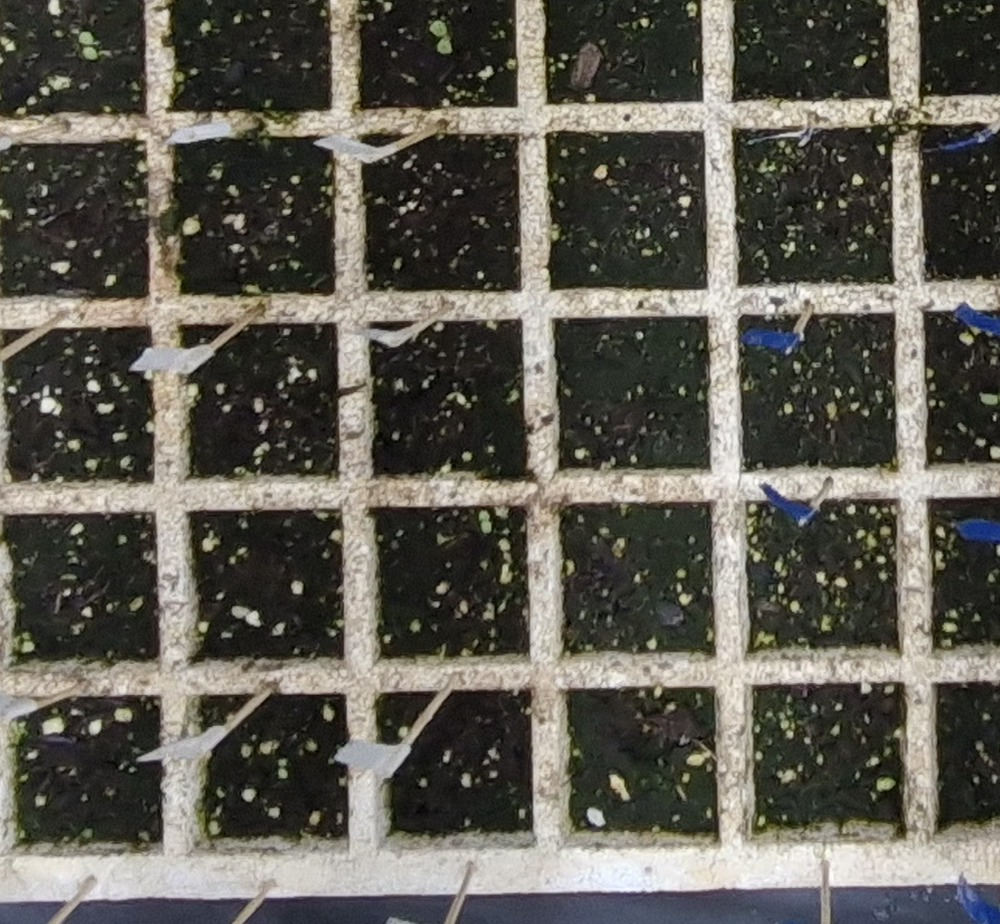Folha: (430, 21, 446, 37), (437, 38, 452, 53), (79, 32, 94, 44), (82, 47, 97, 59), (981, 394, 998, 404)
Germinacao: (430, 21, 452, 53), (79, 31, 98, 60)
